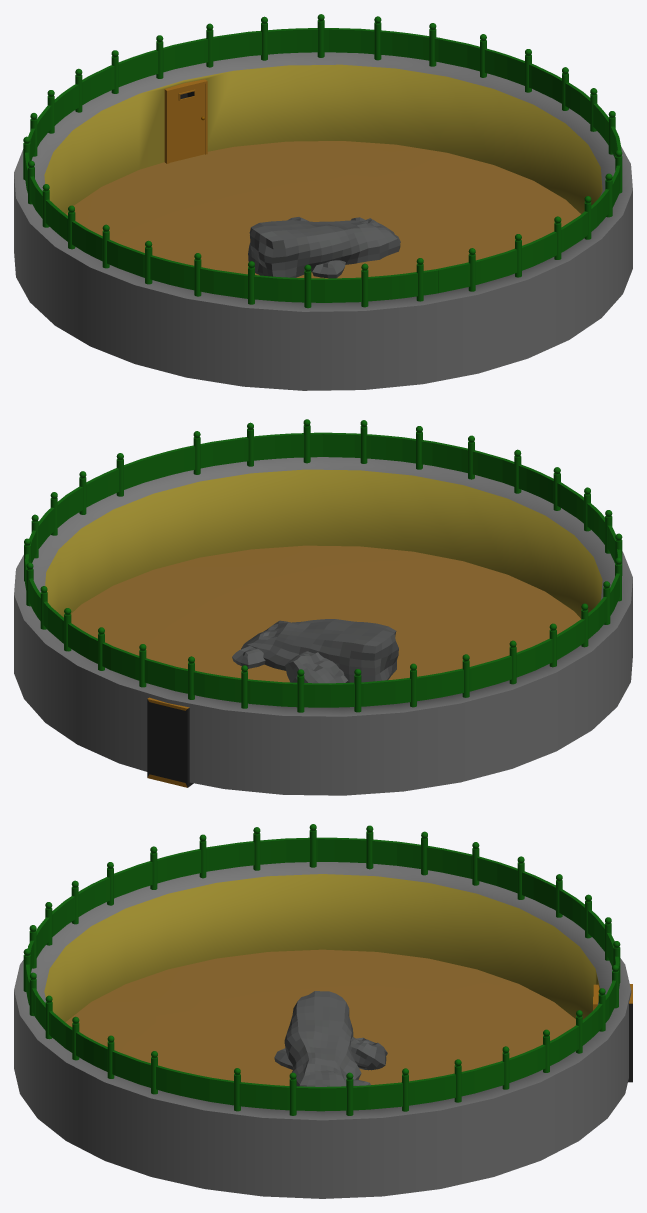
3 views of the same model, one above another, from view 1: azimuth 30°, elevation 25°; view 2: azimuth 150°, elevation 25°; view 3: azimuth 270°, elevation 25° (orthographic).
Visible parts, largest first — view 1: Cube.001; view 2: Cube.001; view 3: Cube.001.
Part boxes in pixels (x1,y1,x2,y2): Cube.001: (14,14,632,390); Cube.001: (14,419,632,795); Cube.001: (14,824,632,1198).
Bounding box in the file's own units: 2973 × 728 × 2982.
